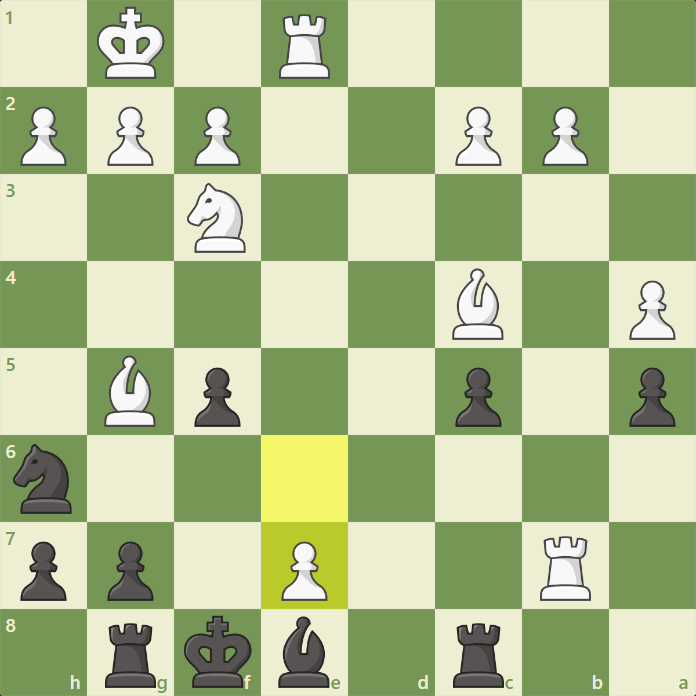B: (102, 354, 158, 430), (450, 268, 507, 342)
K: (95, 5, 167, 81)
N: (184, 180, 248, 256)
P: (279, 540, 330, 604), (627, 278, 677, 343), (540, 103, 590, 168), (455, 104, 505, 169), (191, 103, 241, 168), (105, 102, 155, 167), (18, 103, 68, 168)
R: (537, 533, 595, 605), (276, 10, 332, 82)
b: (276, 615, 332, 692)
k: (182, 613, 253, 691)
n: (10, 442, 74, 516)
p: (106, 539, 157, 604), (17, 538, 68, 603), (191, 365, 242, 430), (452, 365, 503, 430), (626, 365, 677, 430)
r: (101, 620, 160, 691), (450, 621, 505, 691)
